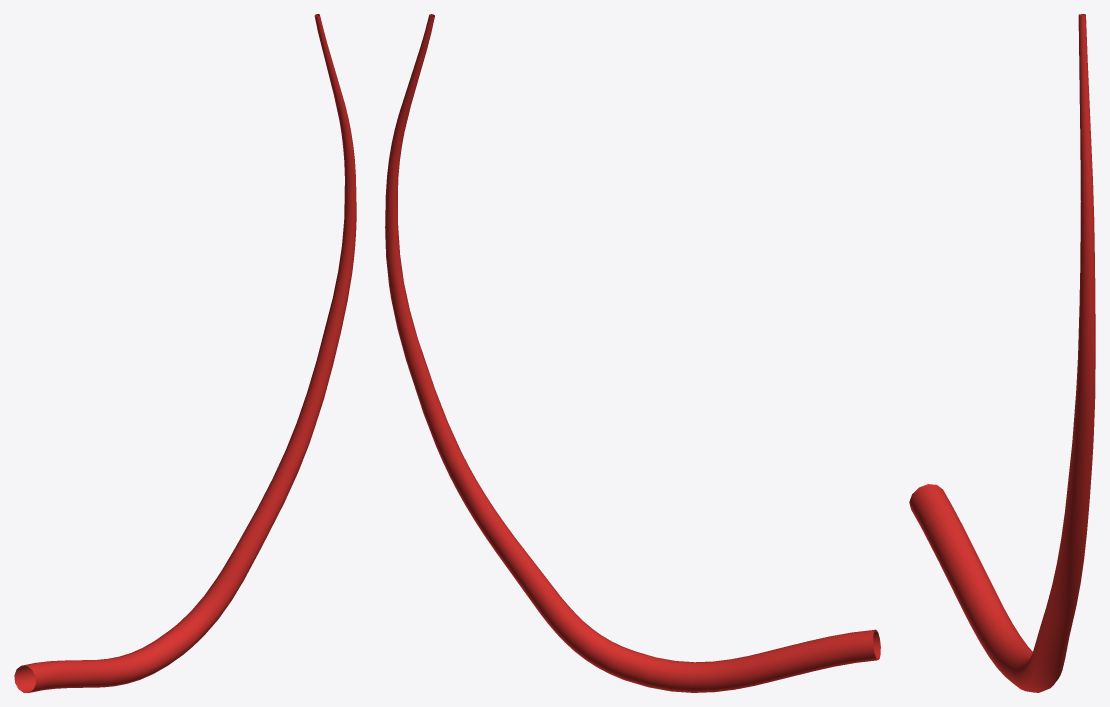
The model's file is circulatorio-accessory-branch-of-middle-meningeal-artery-r.glb.
The picture shows the model from 3 angles, left to right: view 1: azimuth 30°, elevation 25°; view 2: azimuth 150°, elevation 25°; view 3: azimuth 270°, elevation 25°; orthographic projection. The views are drawn at different scales.
Visible parts, largest first — view 1: Accessory branch of middle meningeal artery.r; view 2: Accessory branch of middle meningeal artery.r; view 3: Accessory branch of middle meningeal artery.r.
Boxes of the visible parts, box(x1,y1,x2,y2) form: Accessory branch of middle meningeal artery.r: box(14, 14, 356, 692); Accessory branch of middle meningeal artery.r: box(385, 14, 880, 692); Accessory branch of middle meningeal artery.r: box(909, 14, 1095, 692).
Bounding box in the file's own units: 0.0161 × 0.023 × 0.00493.
